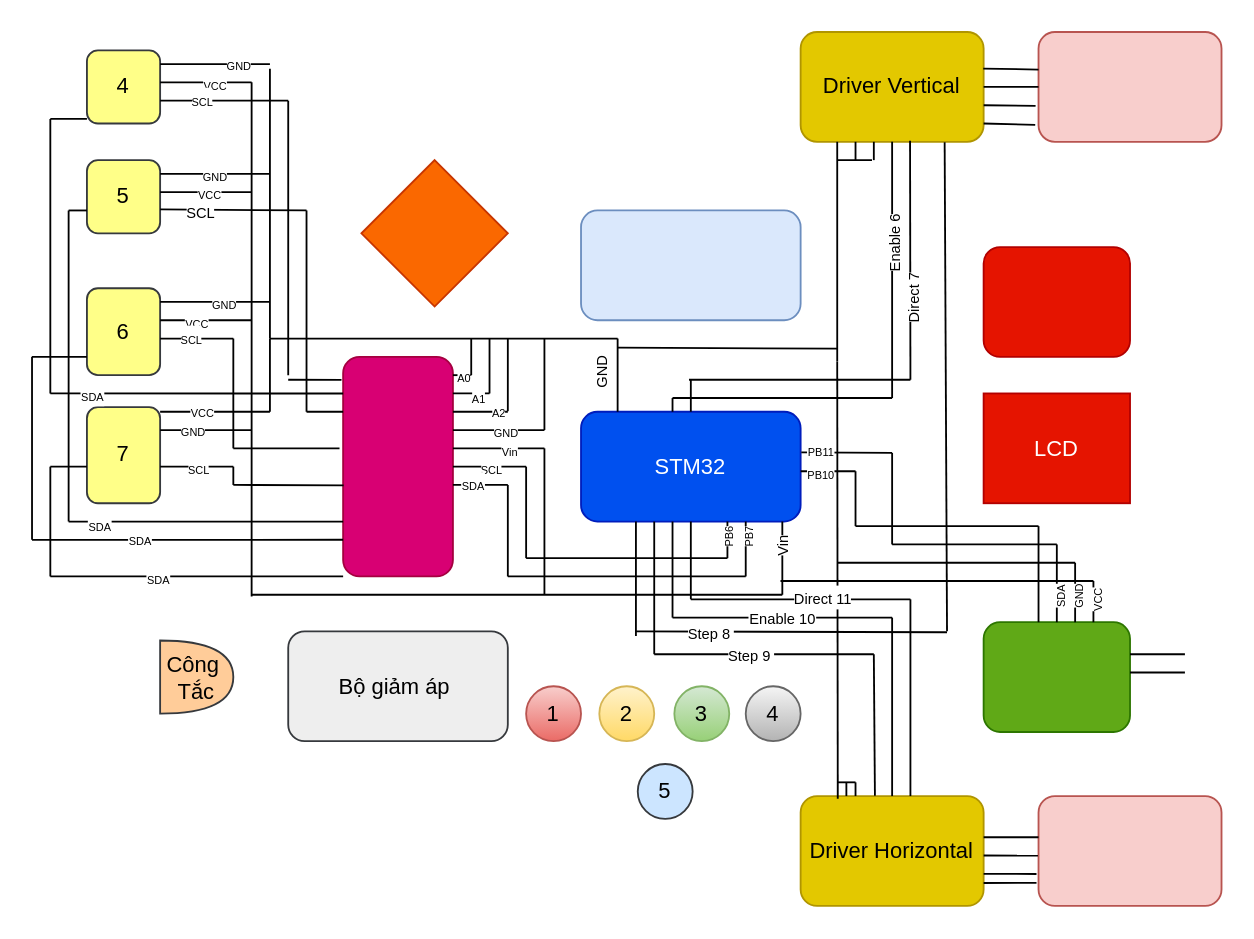
Some shapes in this 1254 by 939 pixel diagram are drawn without their labels. Each missing label, with the box of its shape:
DHT11: (360, 158, 508, 307)
ESP32: (579, 209, 801, 320)
I2C: (982, 245, 1130, 357)
INA219: (982, 620, 1130, 732)
Stepper Horizontal: (1037, 794, 1222, 906)
Stepper Vertical: (1037, 30, 1222, 142)
TCA9548: (341, 355, 453, 576)
